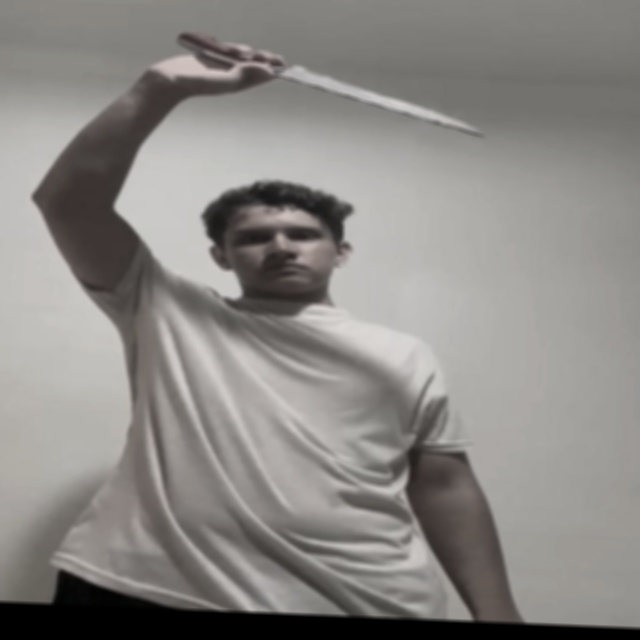Sharp-Object: (279, 59, 481, 136)
